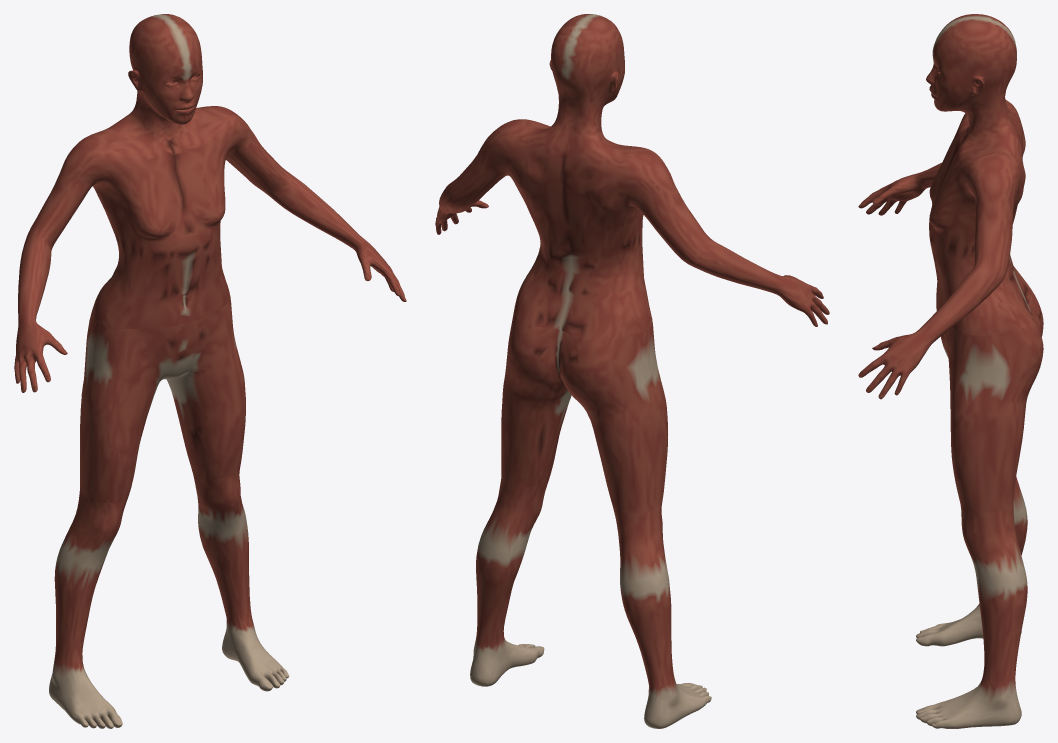
The model's file is lab-muscles-v4-normal.glb.
3 renders of one model, left to right at view 1: azimuth 30°, elevation 25°; view 2: azimuth 150°, elevation 25°; view 3: azimuth 270°, elevation 25°, orthographic.
Visible parts, largest first — view 1: part-muscles-continuous-study; view 2: part-muscles-continuous-study; view 3: part-muscles-continuous-study.
Part boxes in pixels (x1,y1,x2,y2): part-muscles-continuous-study: (14, 14, 406, 728); part-muscles-continuous-study: (435, 14, 829, 728); part-muscles-continuous-study: (858, 14, 1043, 728).
Bounding box in the file's own units: 104 × 175 × 44.13.
